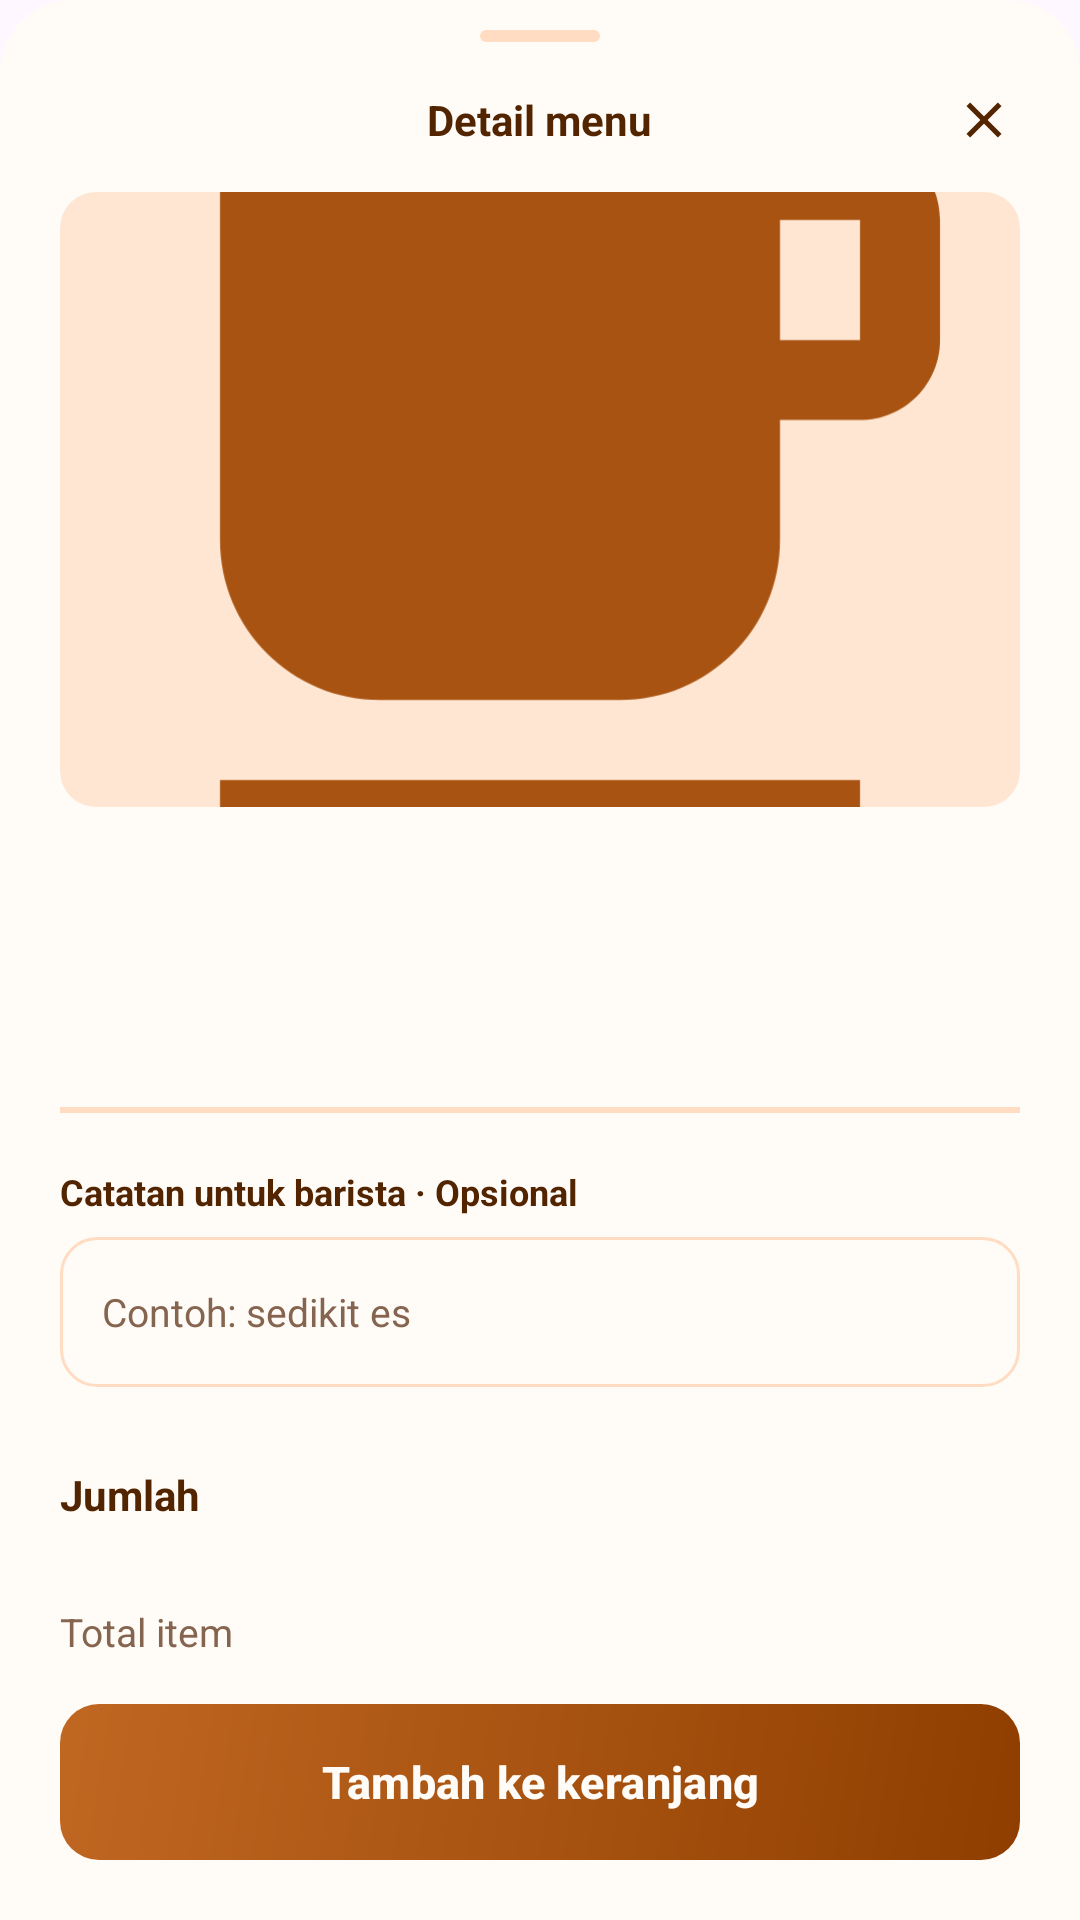

Icons on this 1080px×1920px Android screen, each with its box as (x1, y1, x2, y2):
Tutup: (966, 102, 1002, 138)
